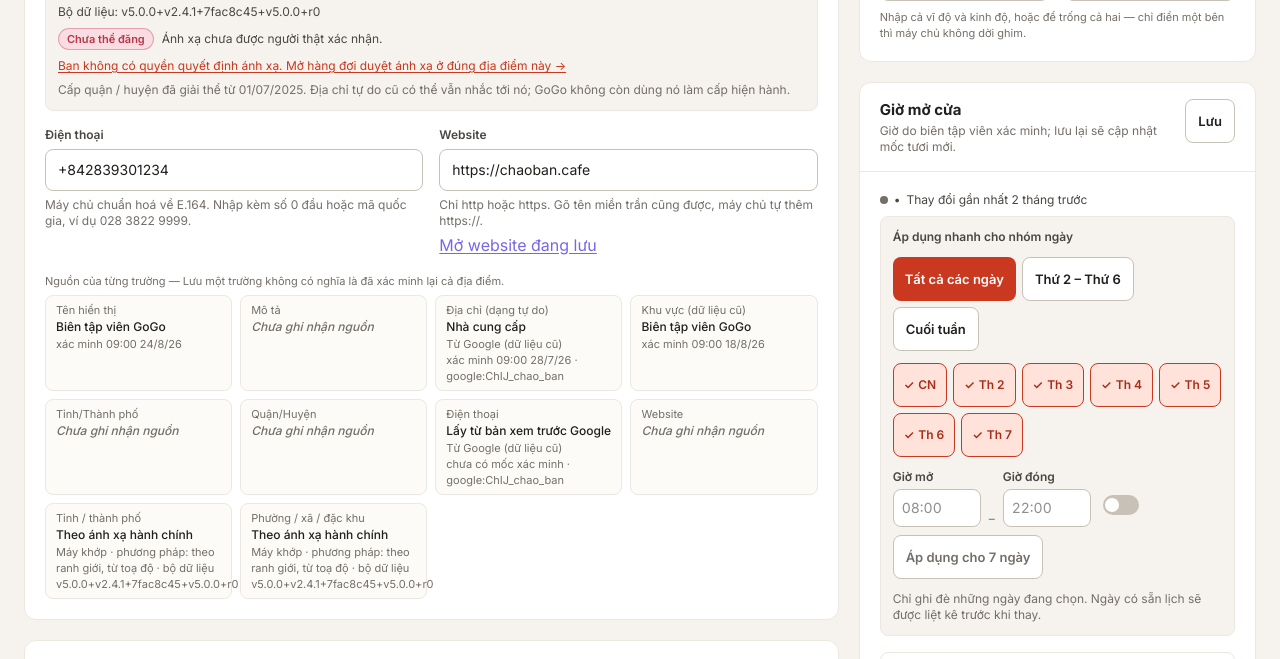
Test case: opening hours by day group (GoGo-CMS#124) › names the days a quick-apply would overwrite before doing it
(page scrolled)
Expected: the heading "Giờ mở cửa" is shown, [880,100,962,119]
Click the button "Cuối tuần" at (936, 329), box [893,307,979,351]
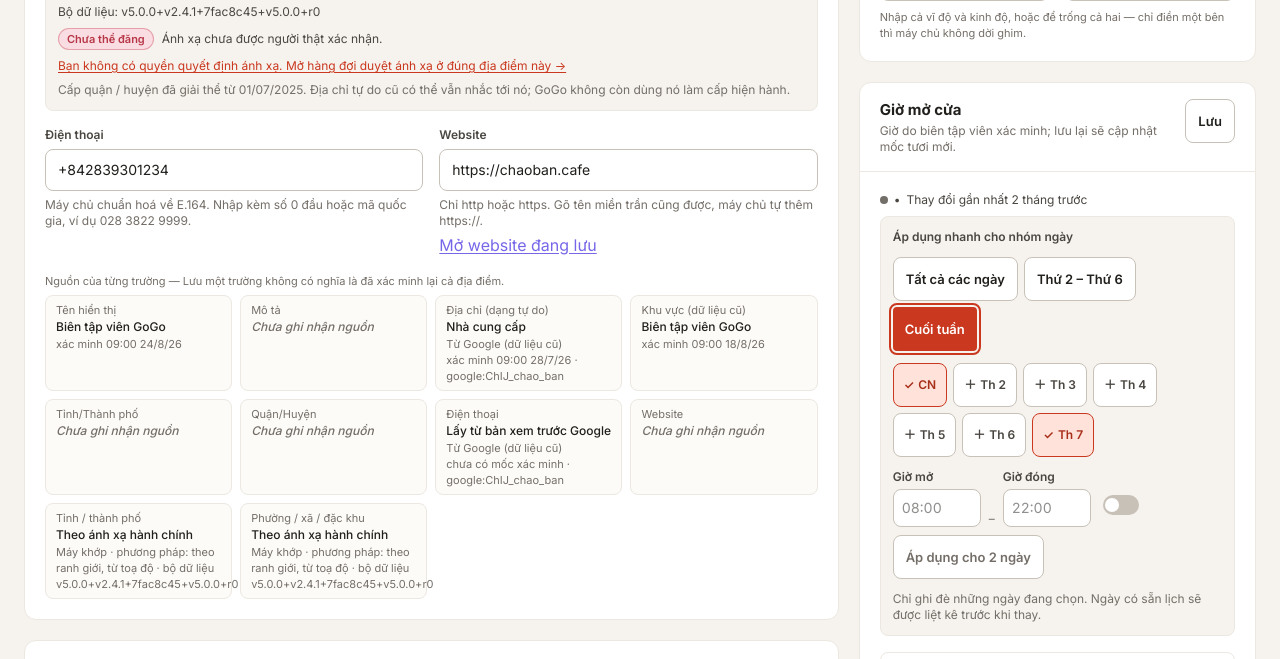
Type "09:00" into the field labelled "Giờ mở" at (937, 508), box [893,489,981,527]
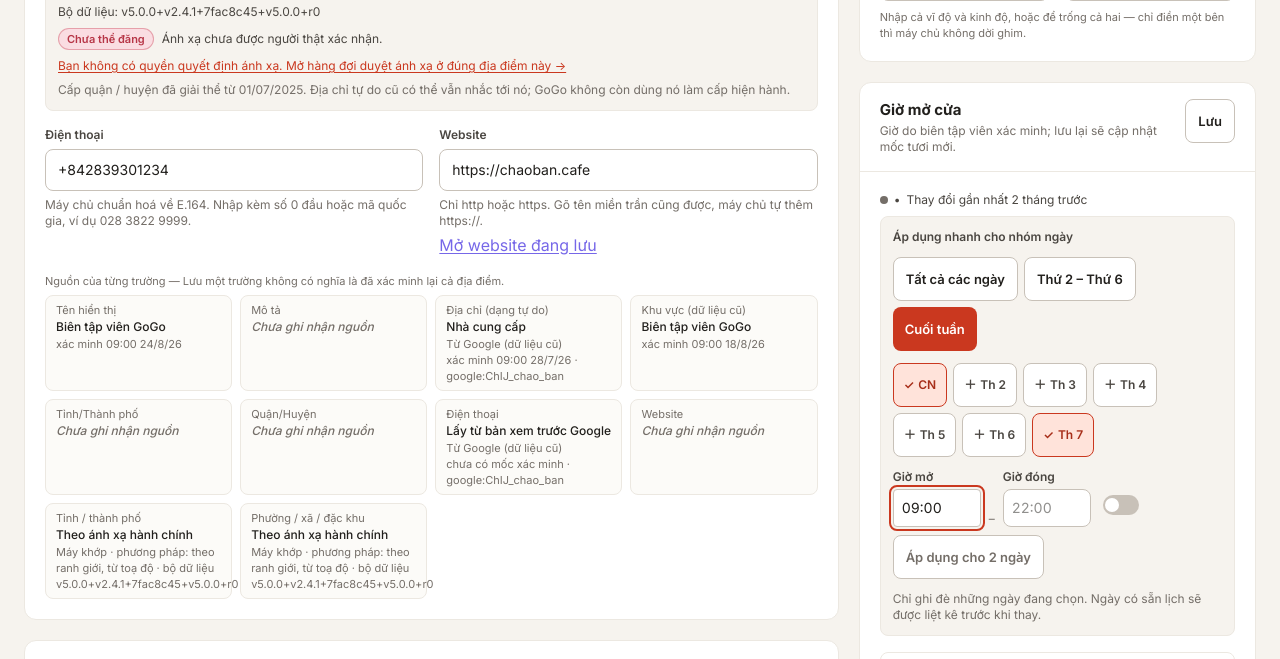
Type "23:00" into the field labelled "Giờ đóng" at (1047, 508), box [1003,489,1091,527]
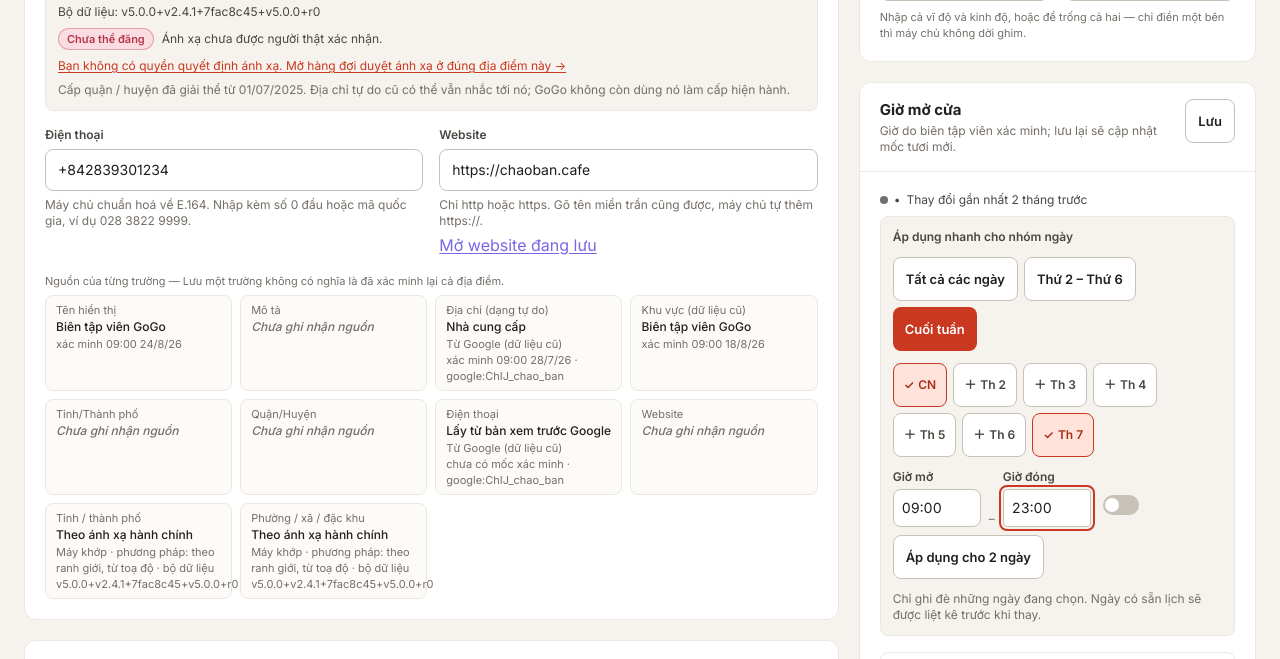
Click the button "Áp dụng cho 2 ngày" at (968, 557), box [893,535,1044,579]
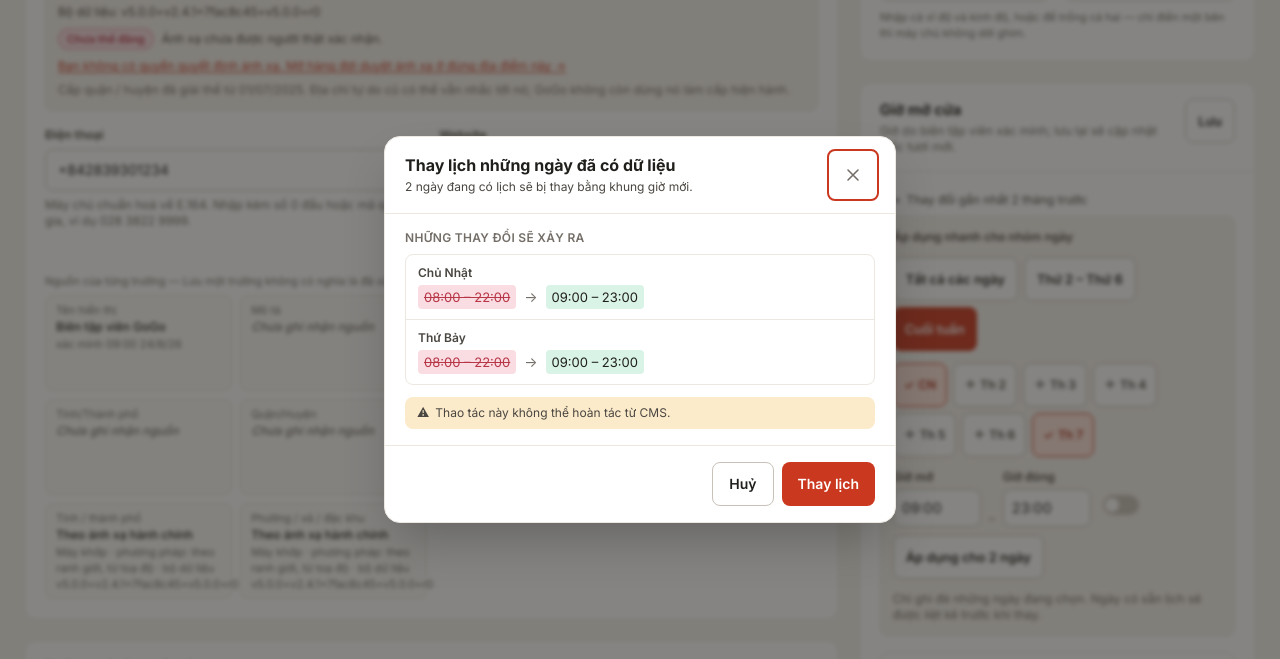
Expected: the heading "Thay lịch những ngày đã có dữ liệu" is shown, [405,152,693,176]
Expected: the text "2 ngày đang có lịch sẽ bị thay bằng khung giờ mới." is shown, [405,178,693,194]
